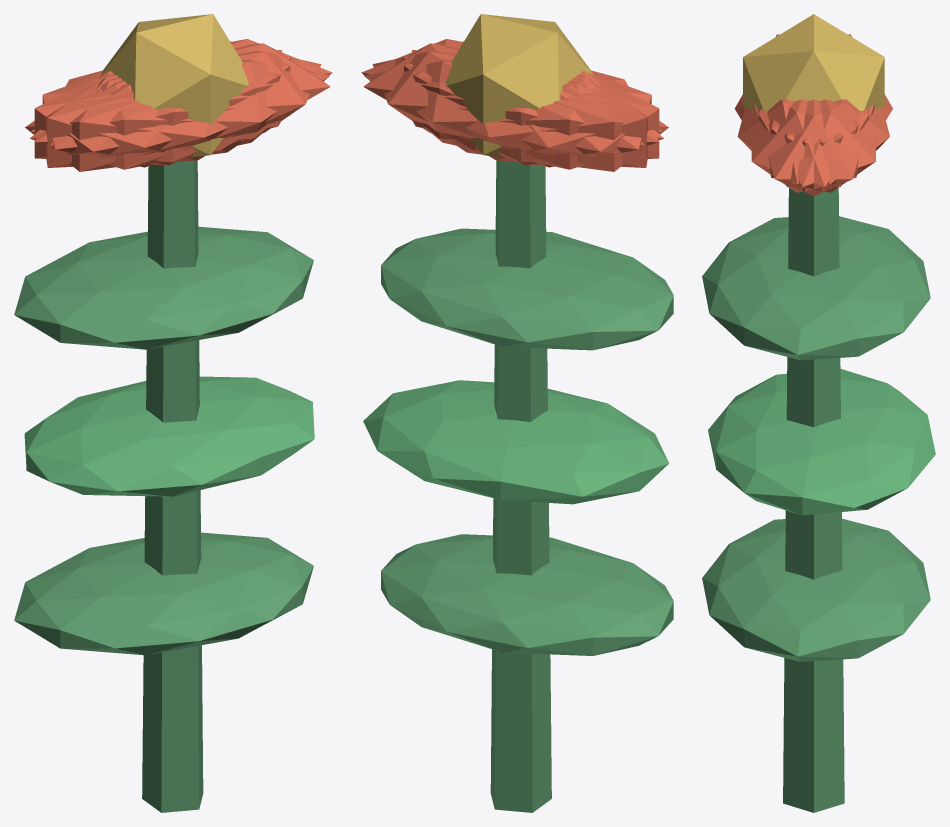
File: chrysanthemum-morifolium.glb
The picture shows the model from 3 angles, left to right: view 1: azimuth 30°, elevation 25°; view 2: azimuth 150°, elevation 25°; view 3: azimuth 270°, elevation 25°; orthographic projection.
Visible parts, largest first — view 1: leaf2, leaf0, leaf1, stem, center, petal1, petal6, petal2, petal5, petal7, petal0, petal4 (+2 smaller); view 2: leaf1, leaf2, leaf0, stem, center, petal8, petal3, petal7, petal4, petal2, petal0, petal5 (+2 smaller); view 3: leaf2, leaf1, leaf0, stem, center, petal0, petal5, petal4, petal1, petal8.
Boxes of the visible parts, x1,y1,x2,y2 form: leaf2: [14, 226, 313, 349]; leaf0: [14, 532, 313, 655]; leaf1: [24, 376, 314, 496]; stem: [142, 160, 203, 812]; center: [101, 14, 248, 157]; petal1: [30, 59, 329, 169]; petal6: [25, 73, 241, 171]; petal2: [46, 50, 282, 167]; petal5: [50, 51, 321, 162]; petal7: [34, 56, 290, 165]; petal0: [100, 43, 330, 151]; petal4: [31, 39, 332, 142]; leaf1: [363, 380, 668, 504]; leaf2: [381, 228, 673, 350]; leaf0: [381, 534, 673, 655]; stem: [490, 160, 551, 812]; center: [445, 14, 592, 157]; petal8: [364, 59, 663, 169]; petal3: [452, 73, 668, 171]; petal7: [411, 50, 647, 167]; petal4: [372, 51, 643, 162]; petal2: [403, 56, 659, 165]; petal0: [363, 43, 593, 151]; petal5: [361, 39, 662, 142]; leaf2: [702, 216, 930, 360]; leaf1: [708, 369, 935, 515]; leaf0: [702, 518, 930, 661]; stem: [783, 188, 844, 812]; center: [743, 14, 884, 110]; petal0: [753, 99, 874, 196]; petal5: [751, 99, 869, 192]; petal4: [758, 99, 876, 192]; petal1: [737, 99, 858, 184]; petal8: [769, 99, 889, 184].
Size of the model in its own units: 0.1487 by 0.3651 by 0.1009.
